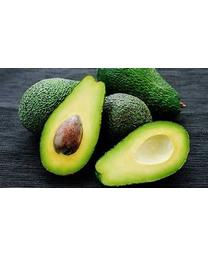avocado: (39, 75, 106, 176), (95, 121, 191, 188), (98, 68, 189, 116), (19, 77, 92, 133), (97, 92, 153, 144)
